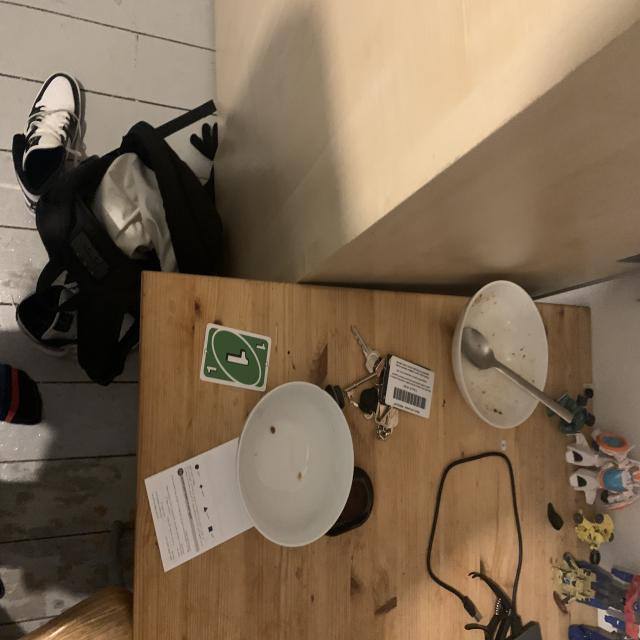lgreen-1: (203, 361, 222, 378)
